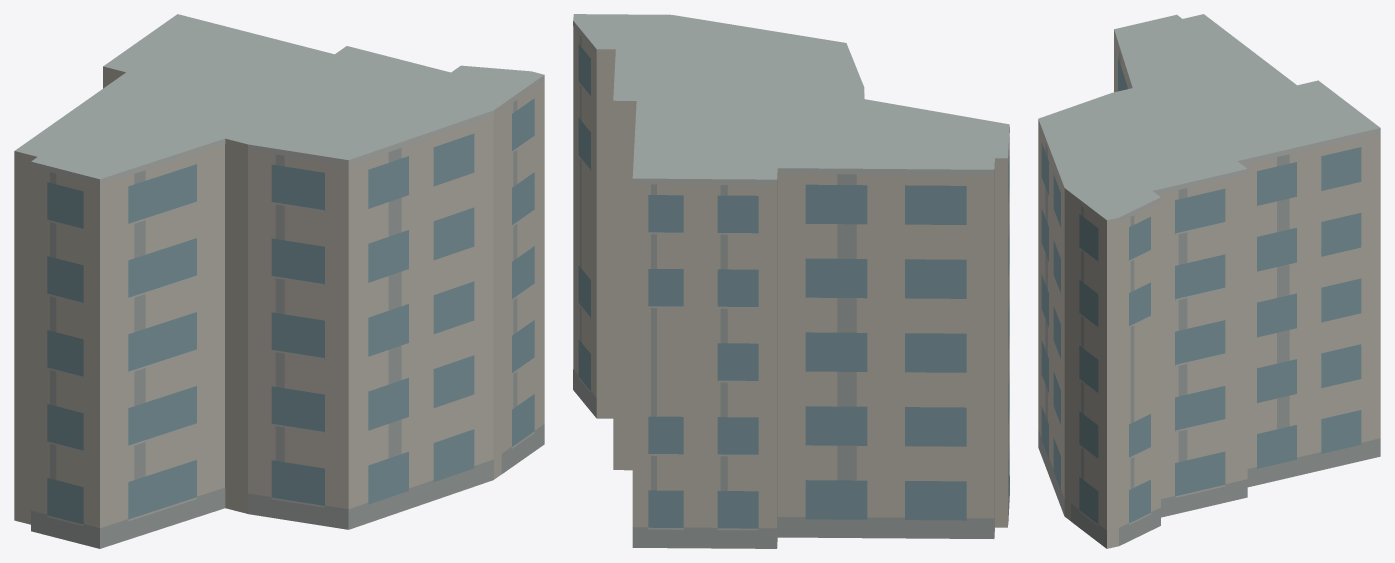
Rendered from survey-upis-32870468.glb.
3 renders of one model, left to right at view 1: azimuth 30°, elevation 25°; view 2: azimuth 150°, elevation 25°; view 3: azimuth 270°, elevation 25°, orthographic. The views are drawn at different scales.
Parts seen in each view (by area): view 1: survey-upis-32870468.tmp; view 2: survey-upis-32870468.tmp; view 3: survey-upis-32870468.tmp.
Boxes of the visible parts, box(x1,y1,x2,y2) form: survey-upis-32870468.tmp: box(14, 14, 544, 548); survey-upis-32870468.tmp: box(573, 14, 1009, 548); survey-upis-32870468.tmp: box(1038, 14, 1380, 548).
Bounding box in the file's own units: 21.25 × 15.78 × 14.91.
